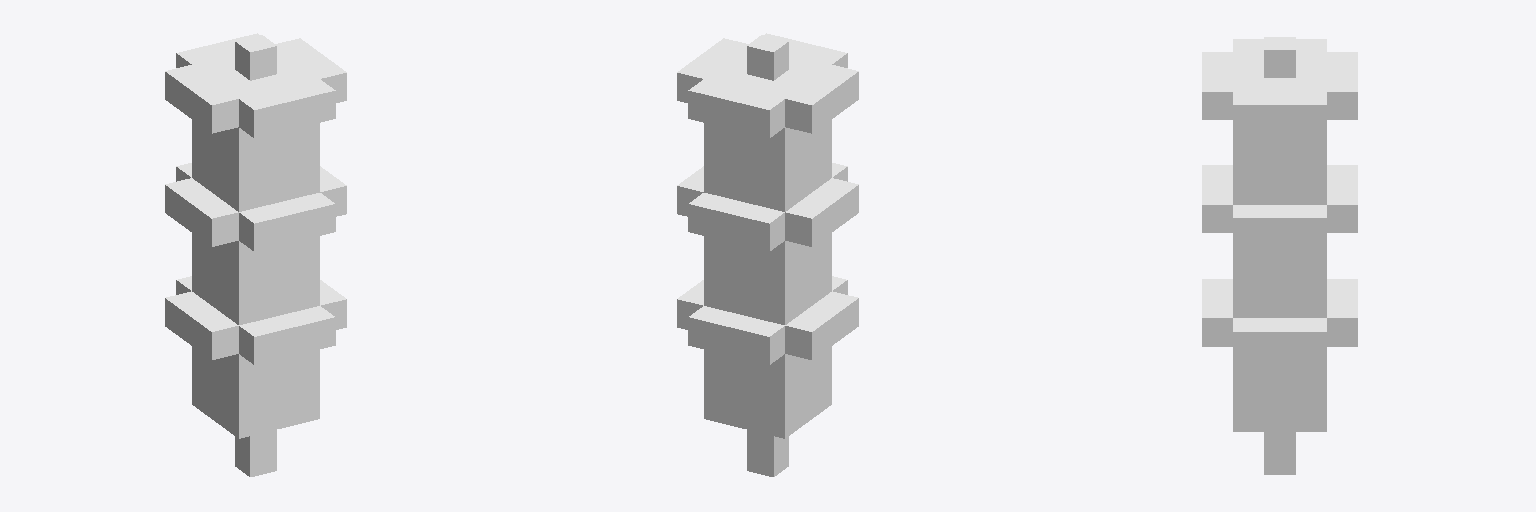
File: skewers.obj
The picture shows the model from 3 angles: view 1: azimuth 30°, elevation 25°; view 2: azimuth 150°, elevation 25°; view 3: azimuth 270°, elevation 25°; orthographic projection.
Visible parts, largest first — view 1: object 1; view 2: object 1; view 3: object 1.
Boxes of the visible parts, x1=… form: object 1: x1=165, y1=33, x2=346, y2=476; object 1: x1=677, y1=33, x2=858, y2=476; object 1: x1=1202, y1=37, x2=1357, y2=474.
Size of the model in its own units: 0.5 by 1.5 by 0.5.